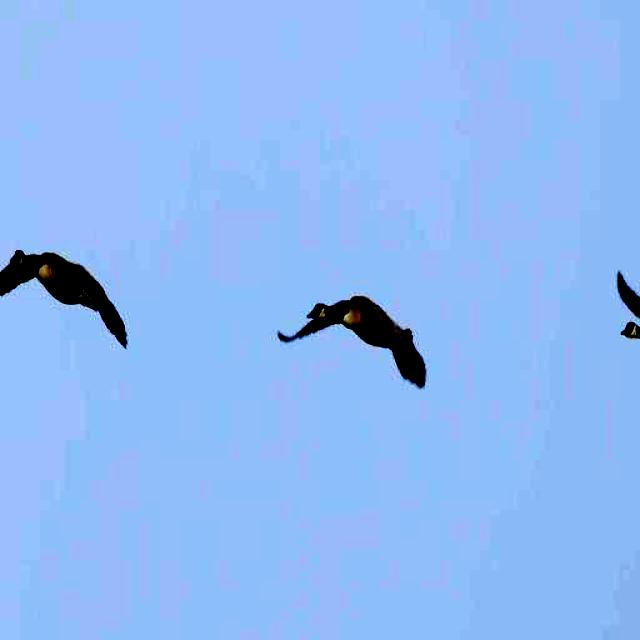airplane: (274, 289, 429, 394), (0, 245, 129, 352)
